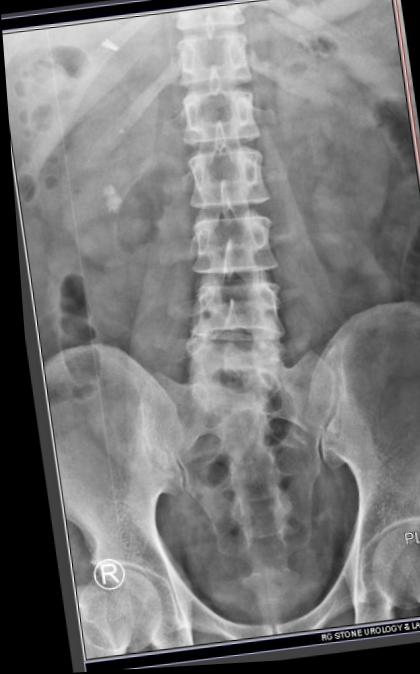vertebrae: (167, 77, 261, 147)
